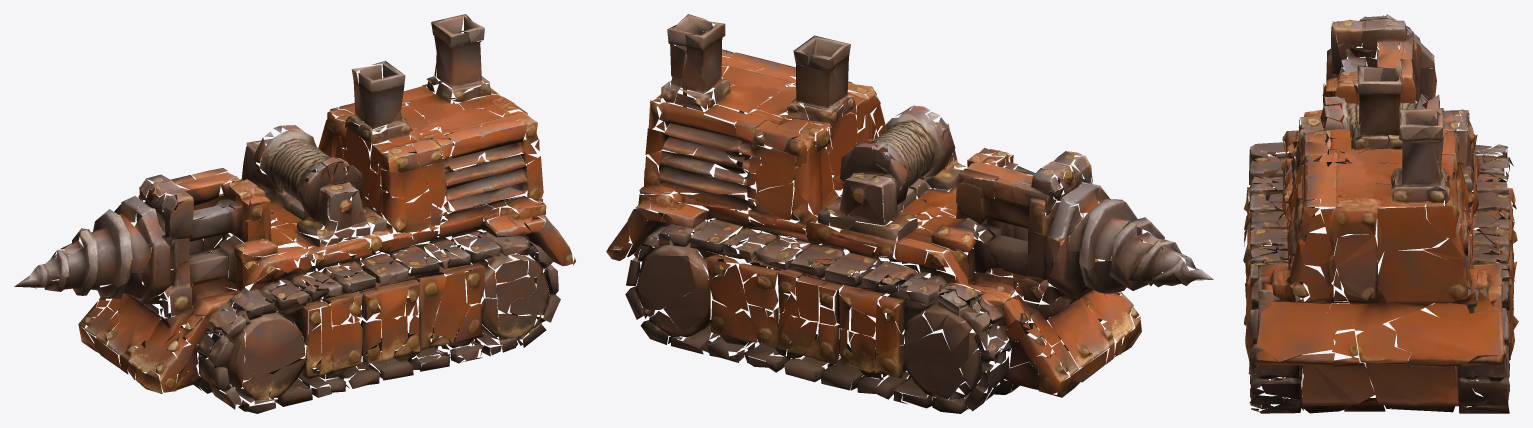
Rendered from sandcrawler_lo.glb.
3 views of the same model, side by side, from view 1: azimuth 30°, elevation 25°; view 2: azimuth 150°, elevation 25°; view 3: azimuth 270°, elevation 25° (orthographic). The views are drawn at different scales.
Parts seen in each view (by area): view 1: tripo_node_23d20daf-e3ab-4873-8b42-75a37fa0efd5; view 2: tripo_node_23d20daf-e3ab-4873-8b42-75a37fa0efd5; view 3: tripo_node_23d20daf-e3ab-4873-8b42-75a37fa0efd5.
Part boxes in pixels (x1,y1,x2,y2): tripo_node_23d20daf-e3ab-4873-8b42-75a37fa0efd5: (14, 14, 575, 413); tripo_node_23d20daf-e3ab-4873-8b42-75a37fa0efd5: (606, 14, 1213, 413); tripo_node_23d20daf-e3ab-4873-8b42-75a37fa0efd5: (1243, 14, 1518, 413).
Size of the model in its own units: 0.9845 by 0.4938 by 0.4107.
Materials: 1 (1 with a texture image).
